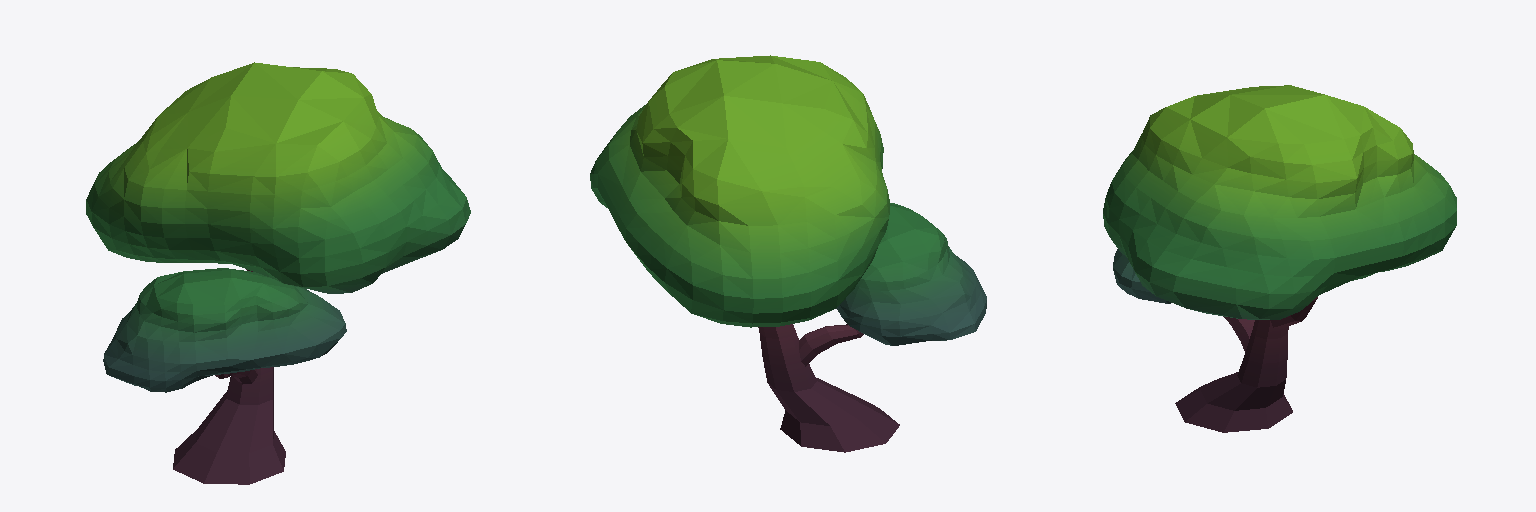
3 renders of one model, left to right at view 1: azimuth 30°, elevation 25°; view 2: azimuth 150°, elevation 25°; view 3: azimuth 270°, elevation 25°, orthographic.
Visible parts, largest first — view 1: Tree.026; view 2: Tree.026; view 3: Tree.026.
Part boxes in pixels (x1,y1,x2,y2): Tree.026: (86,62,470,484); Tree.026: (590,55,986,452); Tree.026: (1103,85,1456,432).
Size of the model in its own units: 7.04 by 6.64 by 6.06.
Materials: 1 (1 with a texture image).